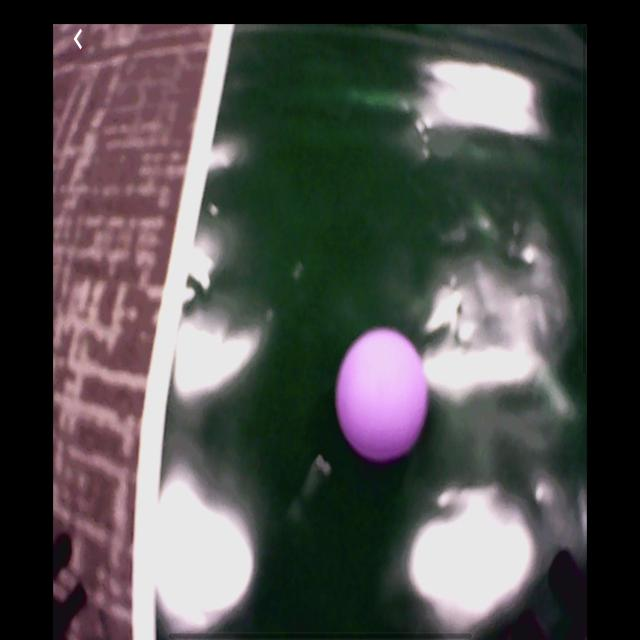ball: (337, 330, 428, 464)
